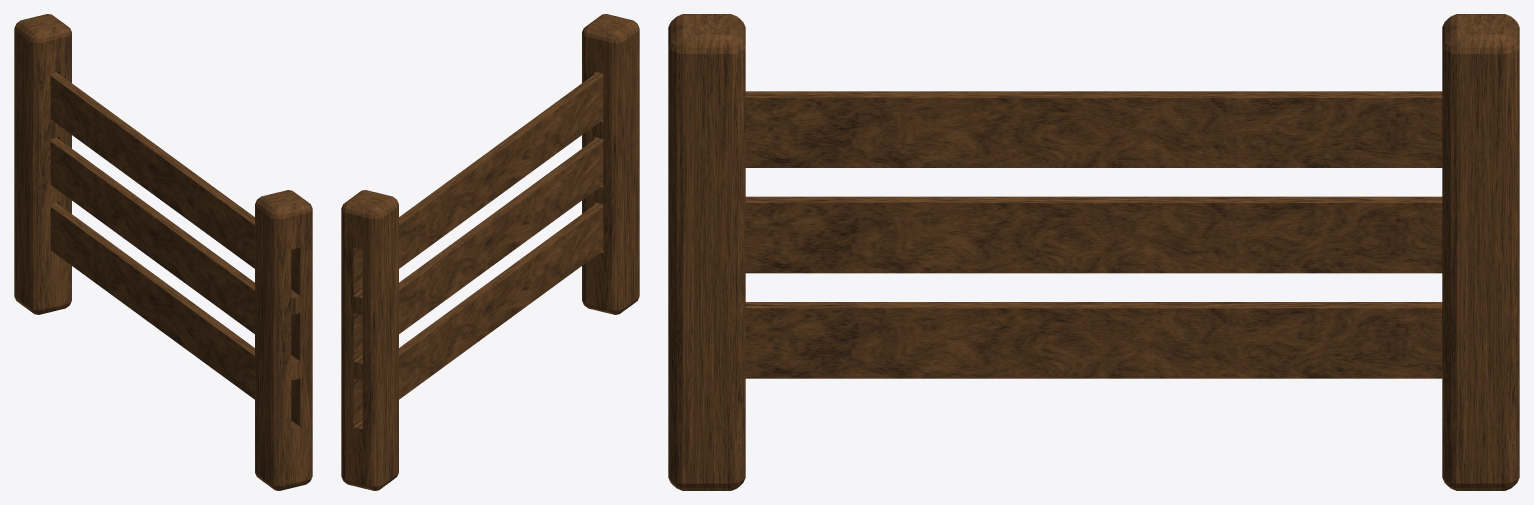
Rendered from fence.glb.
3 views of the same model, side by side, from view 1: azimuth 30°, elevation 25°; view 2: azimuth 150°, elevation 25°; view 3: azimuth 270°, elevation 25° (orthographic). The views are drawn at different scales.
Parts seen in each view (by area): view 1: Post -col.001, Post -col, Plank -col, Plank.001 -col, Plank.002 -col; view 2: Post -col, Post -col.001, Plank -col, Plank.001 -col, Plank.002 -col; view 3: Plank.001 -col, Plank -col, Plank.002 -col, Post -col.001, Post -col.
Boxes of the visible parts, bbox=[...] form: Post -col.001: bbox=[255, 190, 312, 490]; Post -col: bbox=[14, 14, 71, 314]; Plank -col: bbox=[50, 72, 254, 268]; Plank.001 -col: bbox=[50, 137, 254, 333]; Plank.002 -col: bbox=[50, 203, 254, 399]; Post -col: bbox=[341, 190, 398, 490]; Post -col.001: bbox=[582, 14, 639, 314]; Plank -col: bbox=[399, 72, 603, 268]; Plank.001 -col: bbox=[399, 137, 603, 333]; Plank.002 -col: bbox=[399, 203, 603, 399]; Plank.001 -col: bbox=[745, 196, 1442, 273]; Plank -col: bbox=[745, 91, 1442, 167]; Plank.002 -col: bbox=[745, 302, 1442, 378]; Post -col.001: bbox=[668, 14, 745, 490]; Post -col: bbox=[1442, 14, 1519, 490].
Size of the model in its own units: 2 by 13 by 22.
2 materials, 2 textured.
